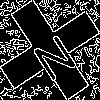N: (25, 25, 80, 83)
